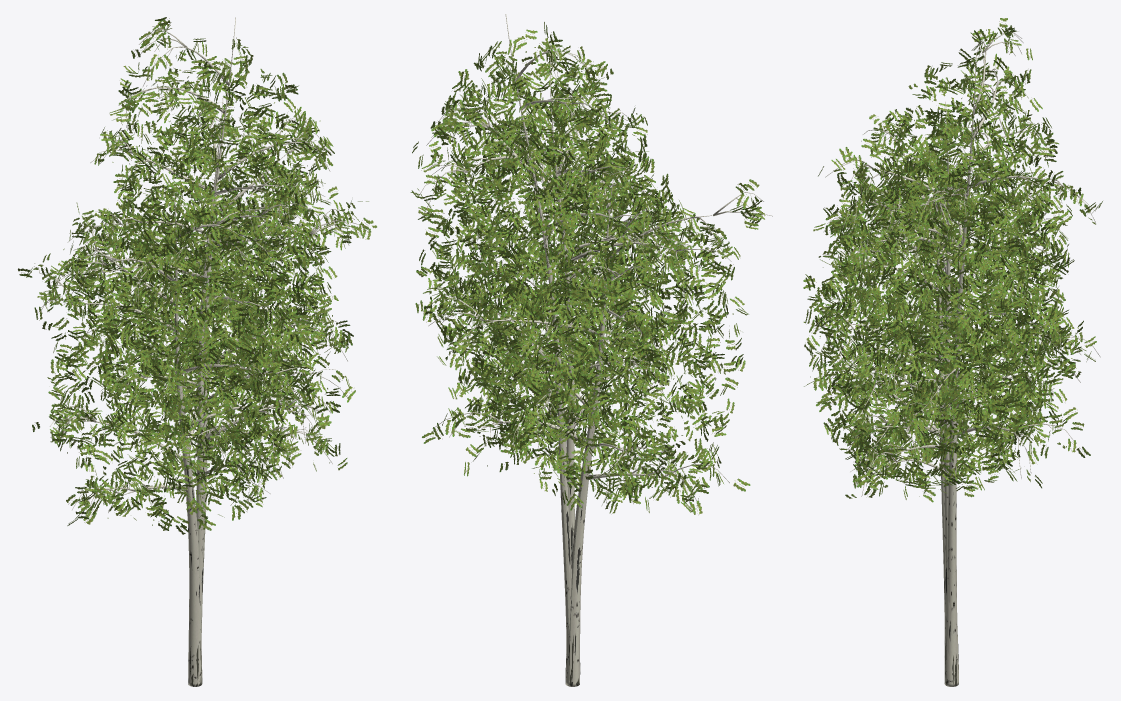
The model's file is trees-v014-birch.glb.
3 renders of one model, left to right at view 1: azimuth 30°, elevation 25°; view 2: azimuth 150°, elevation 25°; view 3: azimuth 270°, elevation 25°, orthographic. The views are drawn at different scales.
Visible parts, largest first — view 1: tree_birch_1_foliage_leaf, tree_birch_0_foliage_leaf, tree_birch_2_foliage_leaf, tree_birch_1_bark, tree_birch_0_bark, tree_birch_2_bark; view 2: tree_birch_1_foliage_leaf, tree_birch_2_foliage_leaf, tree_birch_0_foliage_leaf, tree_birch_1_bark, tree_birch_2_bark, tree_birch_0_bark; view 3: tree_birch_2_foliage_leaf, tree_birch_0_foliage_leaf, tree_birch_1_foliage_leaf, tree_birch_2_bark, tree_birch_0_bark, tree_birch_1_bark.
Part boxes in pixels (box(x1,y1,x2,y2)): tree_birch_1_foliage_leaf: box(18, 190, 340, 534); tree_birch_0_foliage_leaf: box(42, 102, 376, 510); tree_birch_2_foliage_leaf: box(71, 17, 355, 441); tree_birch_1_bark: box(34, 192, 330, 686); tree_birch_0_bark: box(50, 96, 368, 638); tree_birch_2_bark: box(67, 17, 347, 583); tree_birch_1_foliage_leaf: box(415, 127, 765, 514); tree_birch_2_foliage_leaf: box(410, 22, 696, 456); tree_birch_0_foliage_leaf: box(412, 68, 740, 477); tree_birch_1_bark: box(427, 149, 772, 686); tree_birch_2_bark: box(417, 14, 692, 639); tree_birch_0_bark: box(426, 73, 731, 651); tree_birch_2_foliage_leaf: box(833, 18, 1102, 471); tree_birch_0_foliage_leaf: box(816, 89, 1065, 498); tree_birch_1_foliage_leaf: box(803, 113, 1090, 502); tree_birch_2_bark: box(837, 31, 1100, 643); tree_birch_0_bark: box(825, 101, 1050, 658); tree_birch_1_bark: box(815, 129, 1073, 686).
Size of the model in its own units: 10.53 by 21.43 by 8.89.
2 materials, 2 textured.
